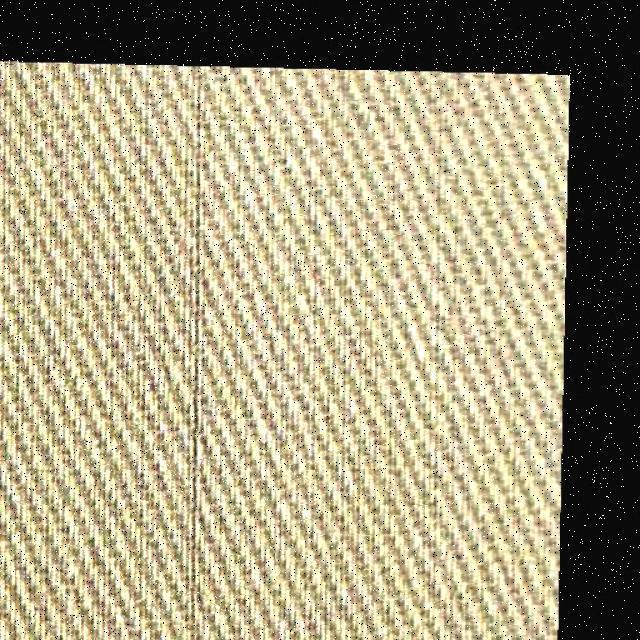Thread_other: (62, 94, 344, 630)
